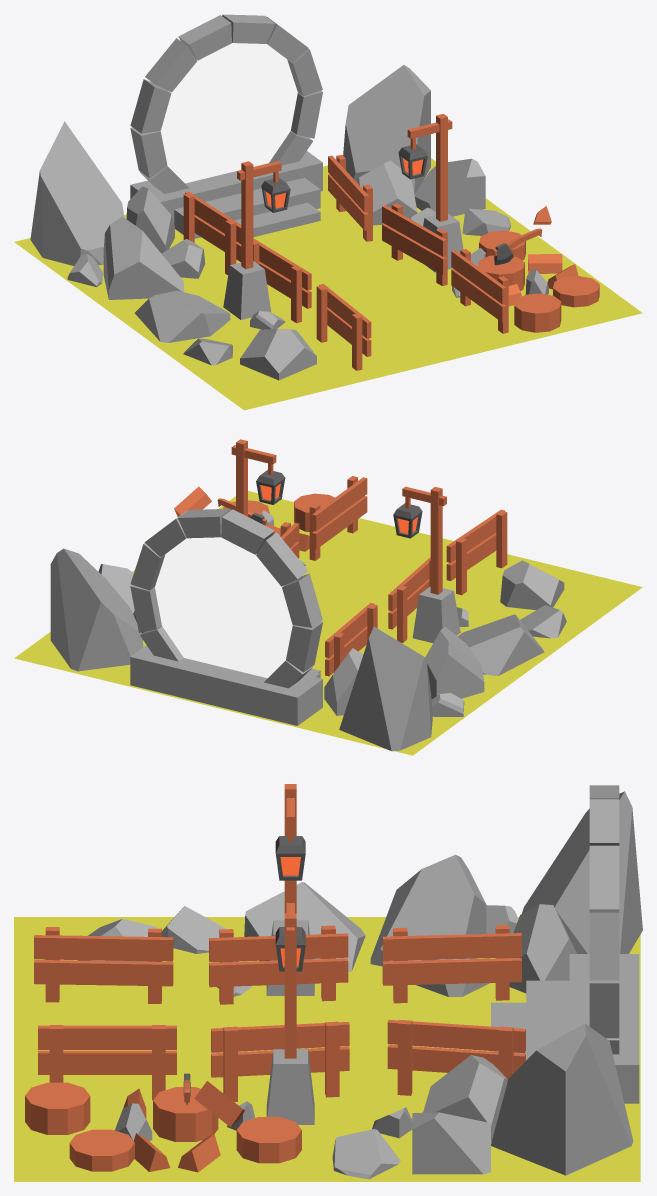
The model's file is wood.glb.
3 views of the same model, one above another, from view 1: azimuth 30°, elevation 25°; view 2: azimuth 150°, elevation 25°; view 3: azimuth 270°, elevation 25° (orthographic). The views are drawn at different scales.
Parts seen in each view (by area): view 1: Plane, Circle, Cube.021, Cube.020, Cube.022, Cube.027, Cube.016, Cube.001, Cube.026, Cube.005, Cube, Cube.024 (+32 smaller); view 2: Plane, Circle, Cube.020, Cube.021, Cube.016, Cube.027, Cube.022, Cube.005, Cube, Cube.026, Cube.012, Cube.003 (+22 smaller); view 3: Plane, Cube.020, Cube.003, Cube.005, Cube.021, Cube, Cube.004, Cube.002, Cube.001, Cube.022, Cube.016, Cube.024 (+29 smaller).
Boxes of the visible parts, bbox=[...] form: Plane: bbox=[14, 158, 642, 410]; Circle: bbox=[160, 43, 297, 183]; Cube.021: bbox=[30, 121, 124, 265]; Cube.020: bbox=[343, 65, 430, 194]; Cube.022: bbox=[103, 216, 184, 299]; Cube.027: bbox=[135, 290, 230, 342]; Cube.016: bbox=[130, 151, 322, 223]; Cube.001: bbox=[382, 203, 447, 286]; Cube.026: bbox=[240, 329, 316, 380]; Cube.005: bbox=[316, 284, 371, 370]; Cube: bbox=[451, 249, 508, 333]; Cube.024: bbox=[414, 158, 485, 216]; Plane: bbox=[14, 491, 642, 755]; Circle: bbox=[155, 537, 292, 678]; Cube.020: bbox=[50, 548, 143, 671]; Cube.021: bbox=[339, 626, 432, 751]; Cube.016: bbox=[130, 645, 322, 725]; Cube.027: bbox=[458, 614, 544, 675]; Cube.022: bbox=[425, 626, 484, 699]; Cube.005: bbox=[446, 509, 507, 595]; Cube: bbox=[309, 476, 367, 560]; Cube.026: bbox=[500, 560, 564, 609]; Cube.012: bbox=[412, 586, 460, 642]; Cube.003: bbox=[325, 603, 377, 676]; Plane: bbox=[14, 917, 640, 1181]; Cube.020: bbox=[491, 1023, 633, 1175]; Cube.003: bbox=[382, 925, 521, 1003]; Cube.005: bbox=[34, 927, 173, 1003]; Cube.021: bbox=[522, 791, 642, 953]; Cube: bbox=[38, 1025, 176, 1100]; Cube.004: bbox=[209, 925, 348, 1004]; Cube.002: bbox=[387, 1019, 525, 1095]; Cube.001: bbox=[211, 1021, 349, 1101]; Cube.022: bbox=[370, 854, 486, 966]; Cube.016: bbox=[569, 954, 639, 1103]; Cube.024: bbox=[412, 1112, 490, 1174].
Bounding box in the file's own units: 4 × 1.85 × 4.01.
